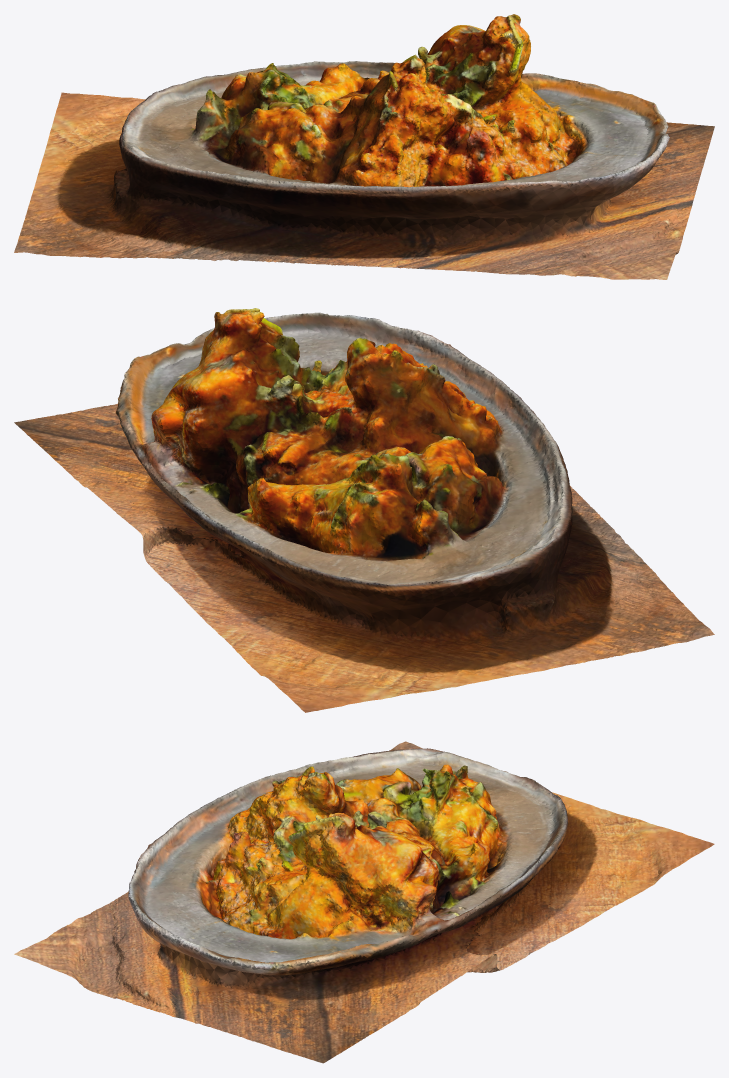
Rendered from chicken.glb.
The picture shows the model from 3 angles, top to bottom: view 1: azimuth 30°, elevation 25°; view 2: azimuth 150°, elevation 25°; view 3: azimuth 270°, elevation 25°; orthographic projection. The views are drawn at different scales.
Visible parts, largest first — view 1: 3DModel; view 2: 3DModel; view 3: 3DModel.
Boxes of the visible parts, x1,y1,x2,y2 form: 3DModel: (14,14,714,279); 3DModel: (14,308,714,712); 3DModel: (14,741,714,1063).
Bounding box in the file's own units: 1.07 × 0.2498 × 0.9976.
1 material, 1 textured.
